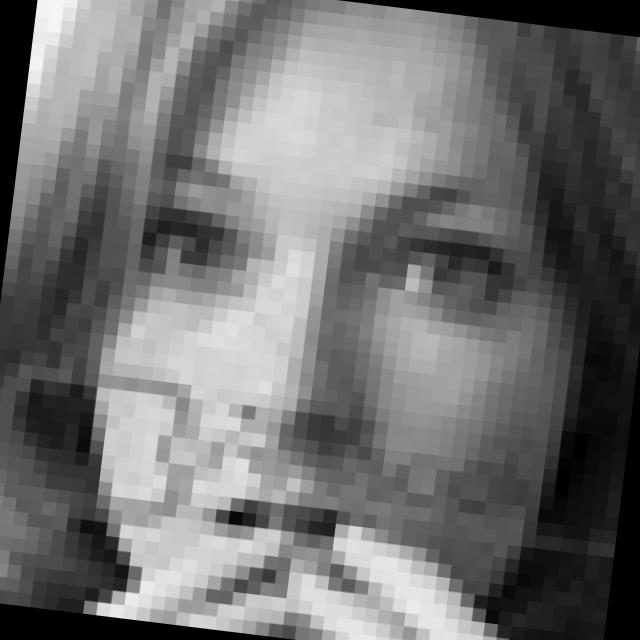fear: (109, 135, 540, 620)
